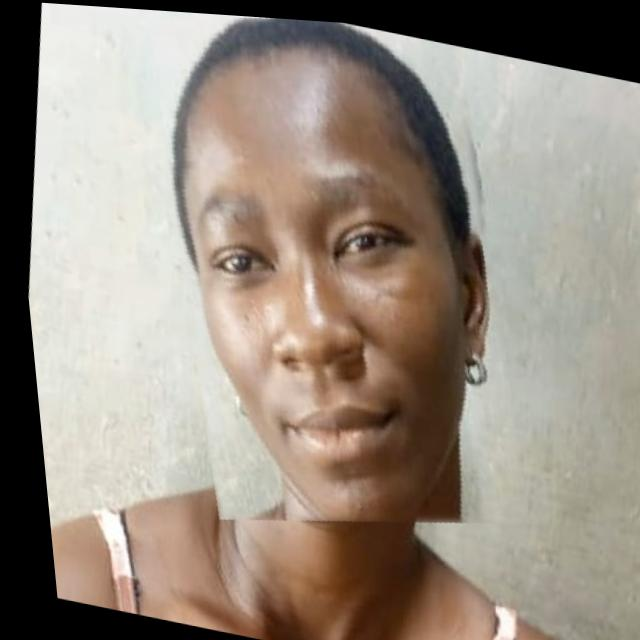sad: (99, 5, 565, 562)
